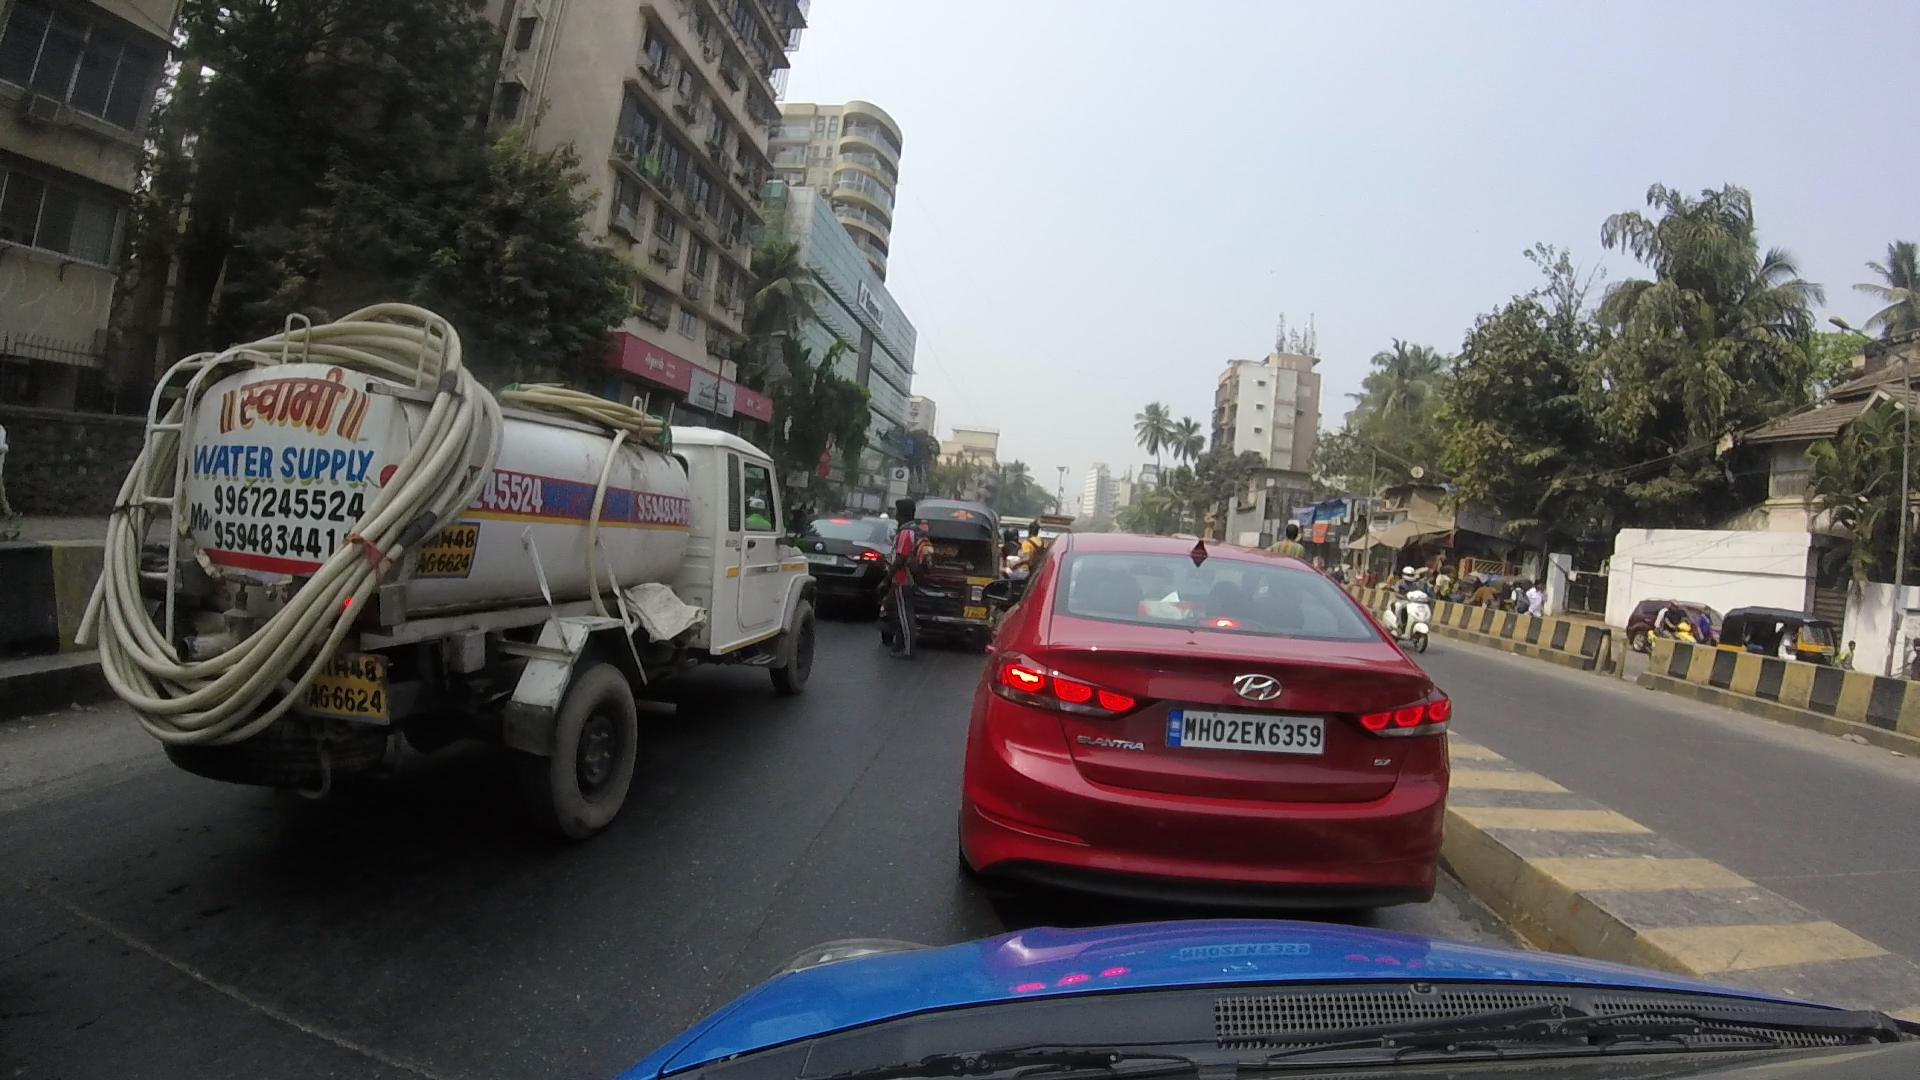car: (957, 530, 1455, 913), (796, 510, 881, 589)
rickshaw: (878, 501, 996, 633)
truck: (113, 353, 811, 839)
